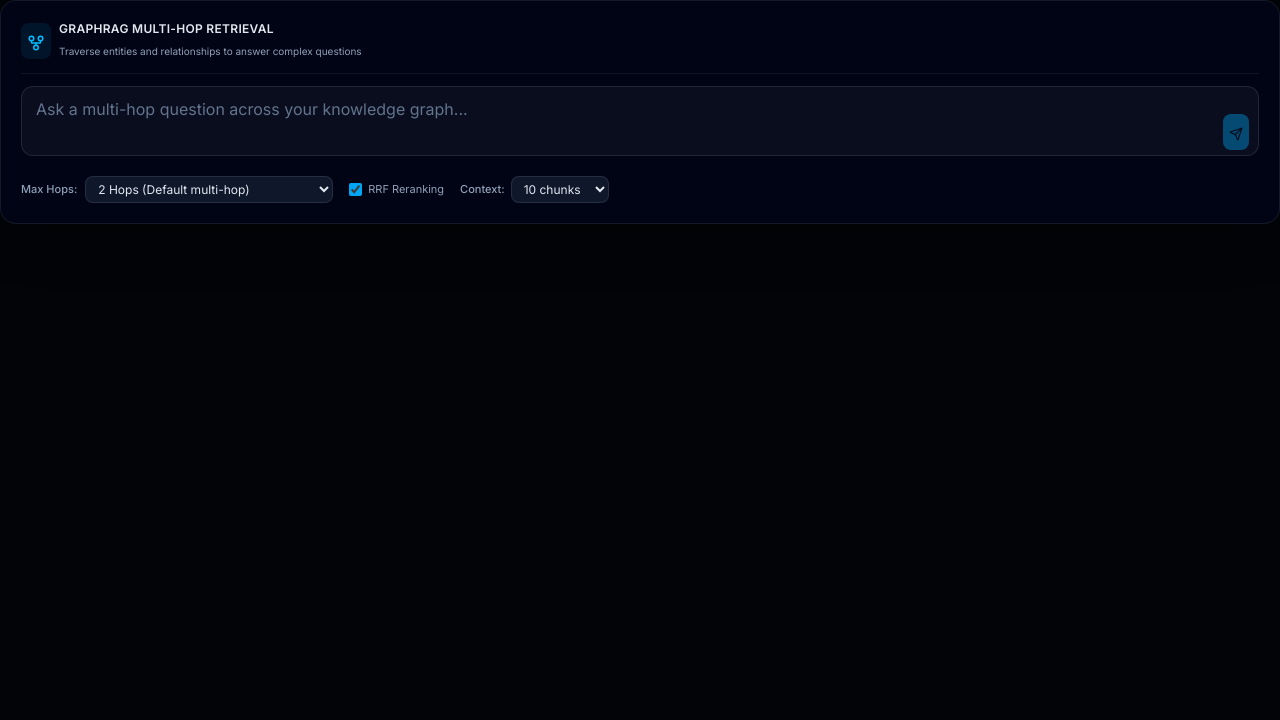
Scenario: GraphRAGPanel (§5.7, §9.7, §14.2) › submits query and renders answer, citations, and graph_context
This screenshot has width=1280, height=720.
Type "How does backpropagation relate to gradient descent?" into the text box with test id "graph-rag-query-input" at (640, 121), box [21, 86, 1259, 156]
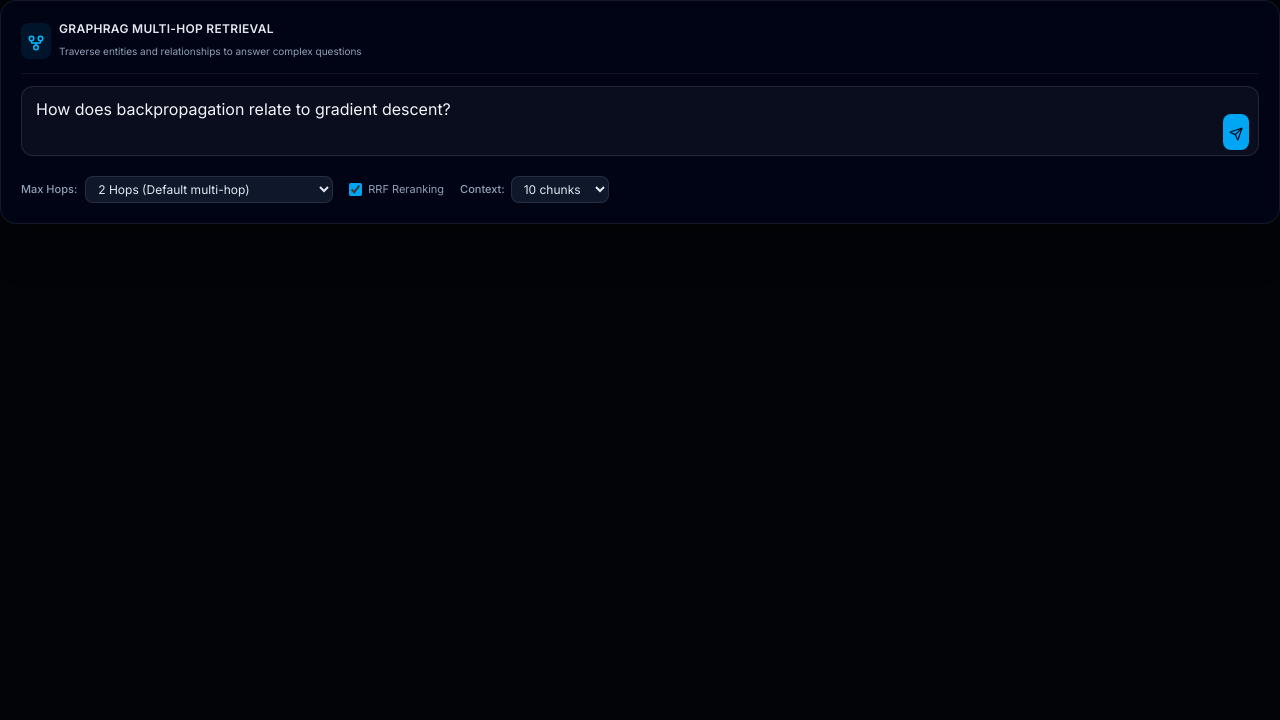
Click the button with test id "graph-rag-submit-btn" at (1236, 132), box [1223, 114, 1249, 150]
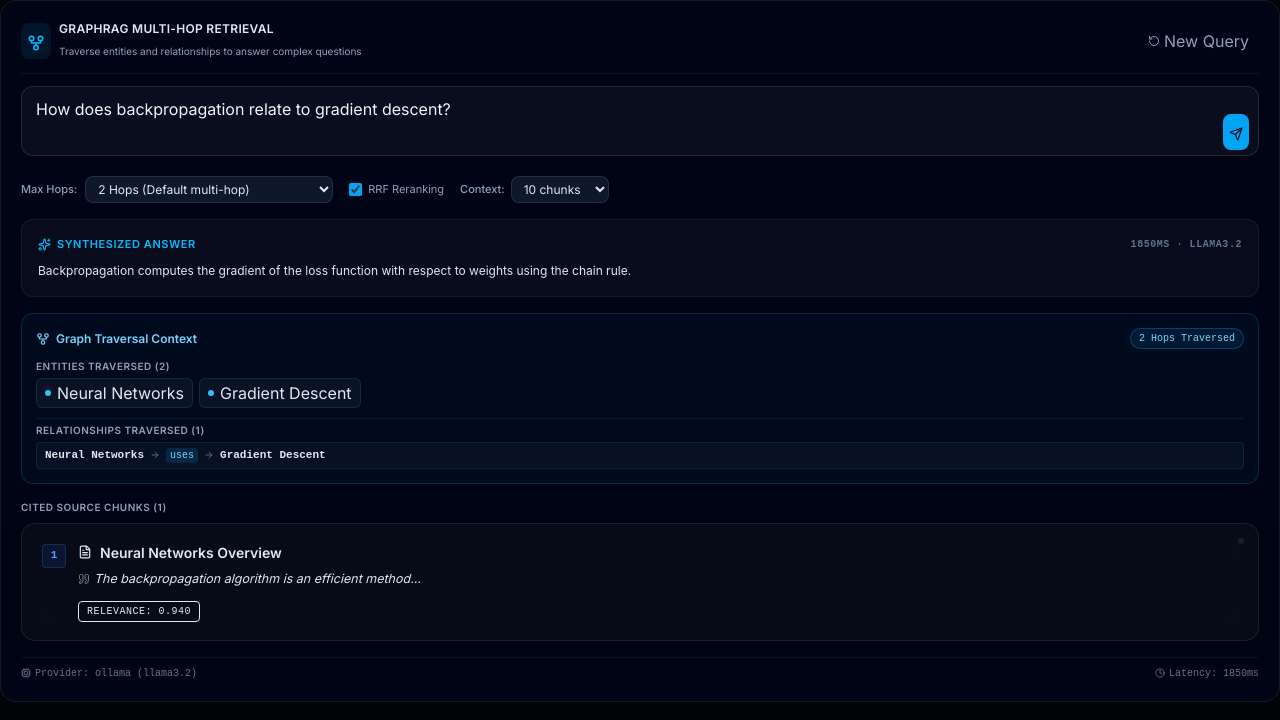
Result: the element with test id "graph-rag-results" is shown
Result: the element with test id "graph-rag-answer" shows "Backpropagation computes the gradient of the loss function" at [38, 262, 631, 278]
Result: the text with test id "graph-context-hops" reads "2 Hops Traversed" at [1130, 328, 1244, 349]
